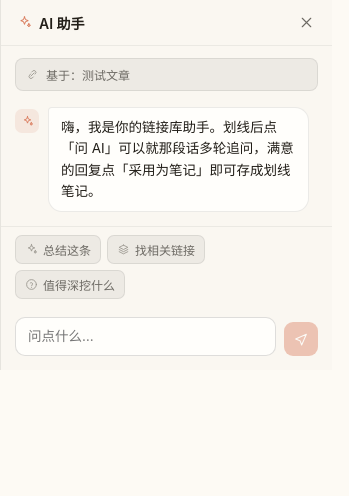
Test: ChatSidebar › 明确的应用 404 不被误判为旧服务缺少 AI 路由
The width and height of the screenshot is (349, 496).
Type "应用错误" into the text box with placeholder "问点什么…" at (146, 337), box [15,317,276,356]
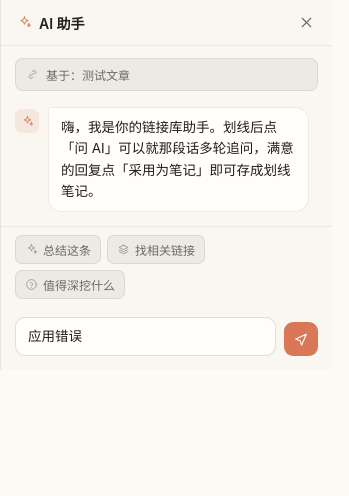
Press Enter in the text box with placeholder "问点什么…", box [15,317,276,356]
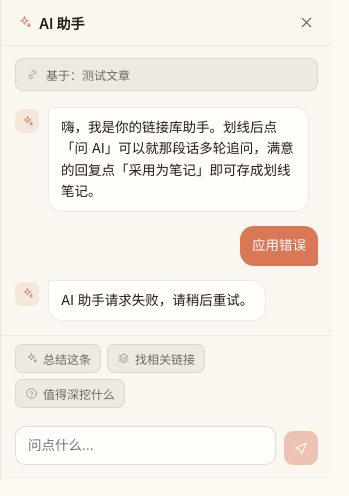
Expected: the text box with placeholder "问点什么…" is enabled, [15,426,276,465]
Expected: the text "AI 助手请求失败，请稍后重试。" is shown, [61,290,253,311]
